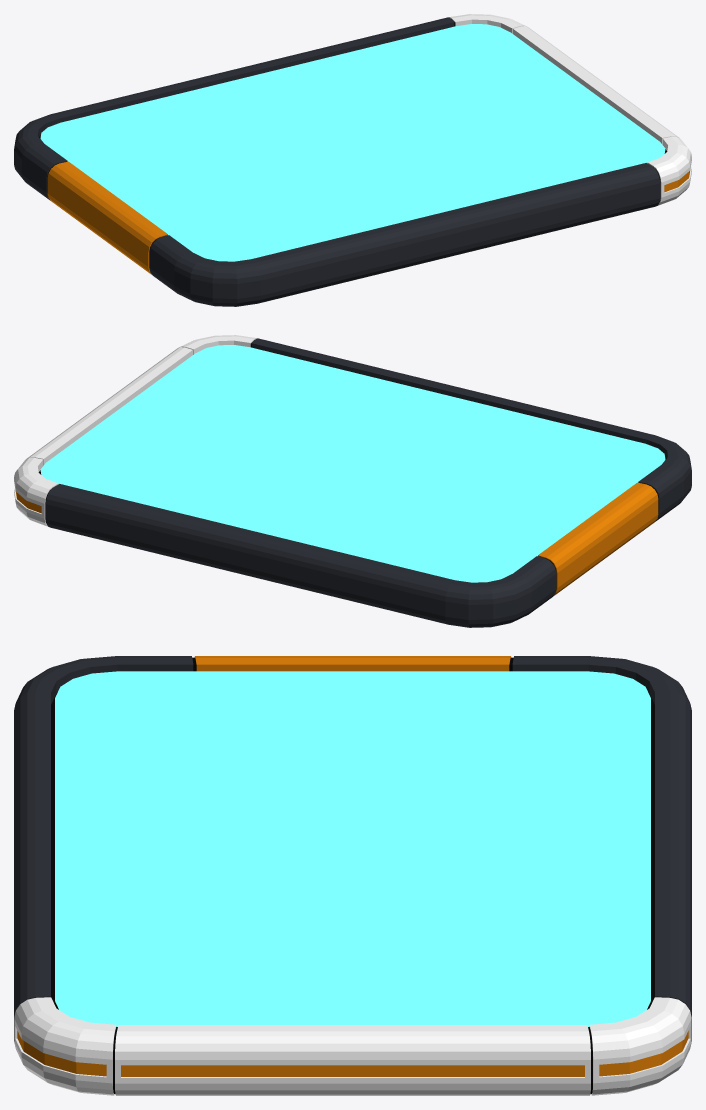
Rendered from SM_Control_Tablet.fbx.
3 views of the same model, one above another, from view 1: azimuth 30°, elevation 25°; view 2: azimuth 150°, elevation 25°; view 3: azimuth 270°, elevation 25° (orthographic). The views are drawn at different scales.
Parts seen in each view (by area): view 1: SM_Control_Tablet; view 2: SM_Control_Tablet; view 3: SM_Control_Tablet.
Boxes of the visible parts, x1,y1,x2,y2 form: SM_Control_Tablet: (14,14,691,306); SM_Control_Tablet: (14,335,691,627); SM_Control_Tablet: (14,656,691,1095).
Bounding box in the file's own units: 19.76 × 1.47 × 14.46.
